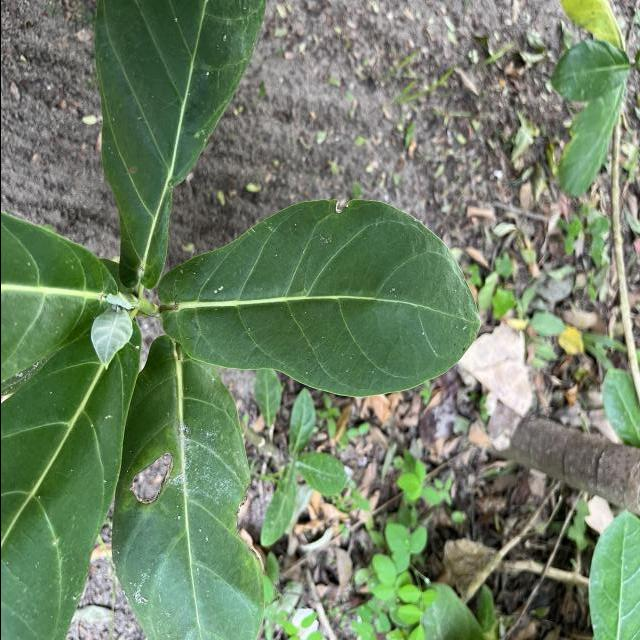Calotropis gigantea: (154, 195, 484, 402), (90, 0, 270, 286), (106, 338, 266, 638), (0, 316, 143, 638)
